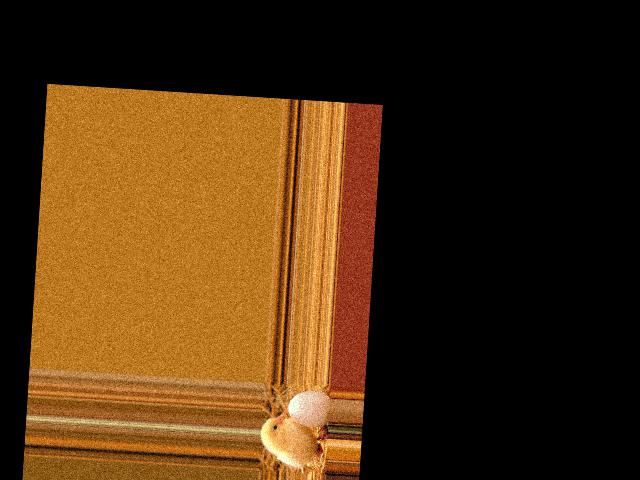egg: (287, 389, 331, 428)
